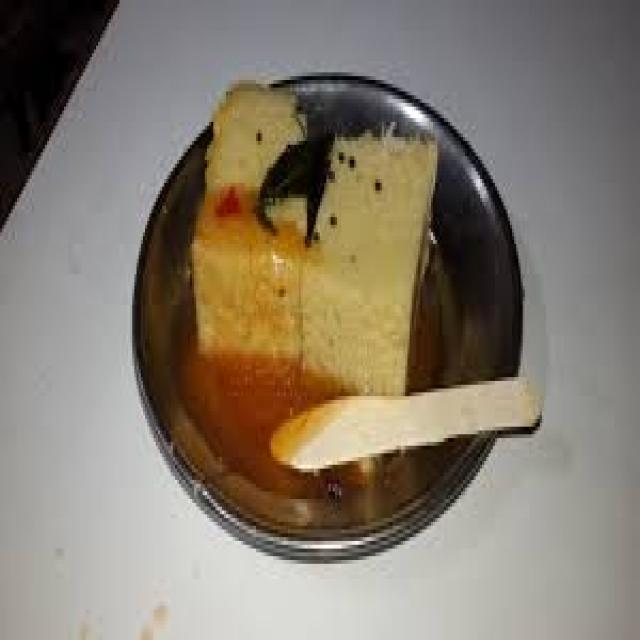DHOKLA: (305, 130, 435, 392), (192, 84, 305, 358)
